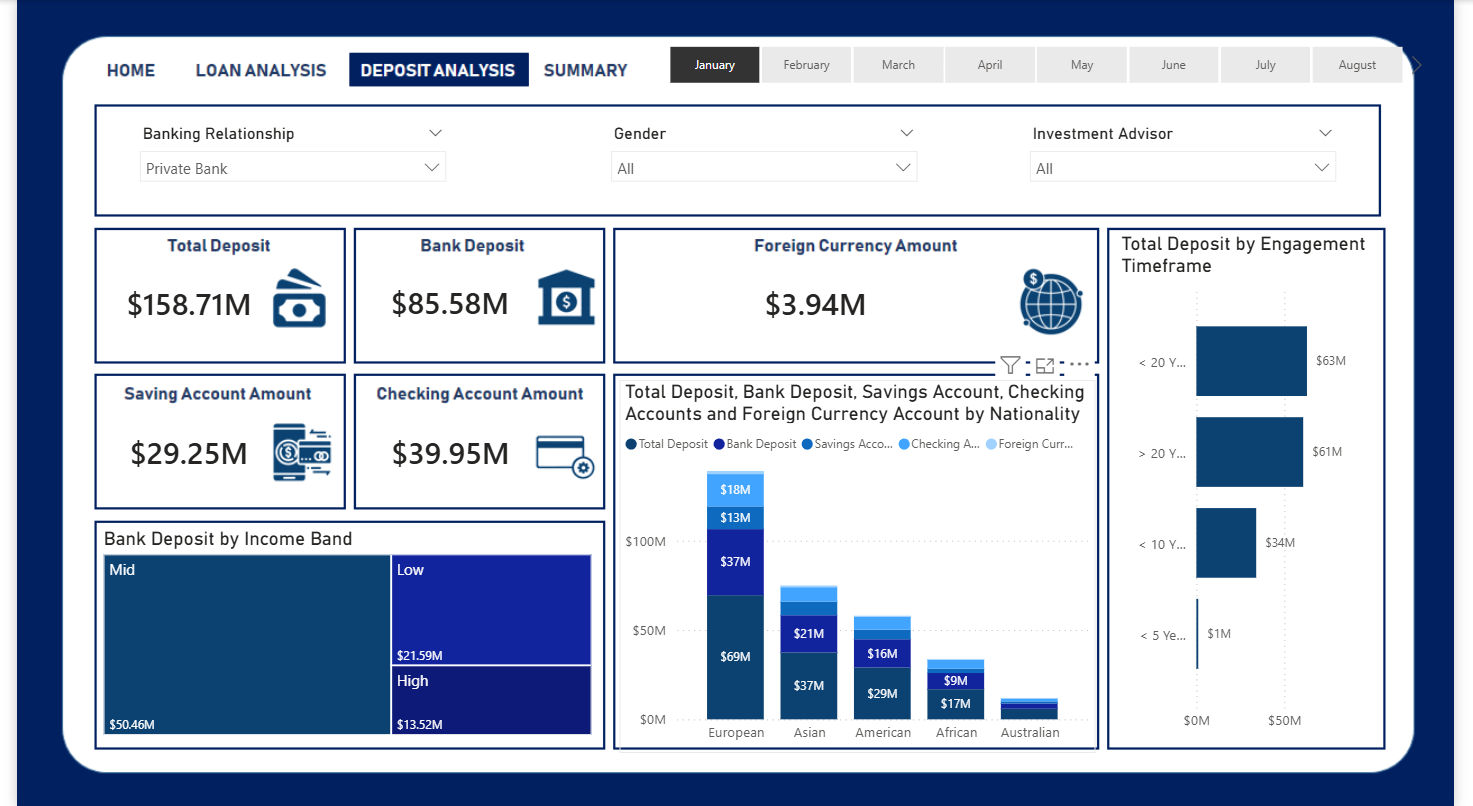

The dashboard page shown, as its layout file describes it:
{"tool":"powerbi","page":{"name":"Deposit Analysis","canvas":[1280,720],"ordinal":2},"visuals":[{"type":"card","fields":{"Values":["DAX Measures.Total Deposit"]},"box":[72.7,226.3,161.8,90.3],"z":0},{"type":"card","fields":{"Values":["DAX Measures.Bank Deposit"]},"box":[299,226.3,172.4,89.1],"z":1000},{"type":"card","fields":{"Values":["DAX Measures.Savings Account"]},"box":[72.7,360,161.8,89.1],"z":2000},{"type":"card","fields":{"Values":["DAX Measures.Checking Accounts"]},"box":[300.2,360,171.2,89.1],"z":3000},{"type":"slicer","fields":{"Values":["Banking Relationship.Banking Relationship"]},"box":[98.5,105.2,292.9,75.7],"z":4000},{"type":"slicer","fields":{"Values":["Gender.Gender"]},"box":[518.9,105.2,292.9,75.7],"z":5000},{"type":"slicer","fields":{"Values":["Investment Advisor.Investment Advisor"]},"box":[891.3,105.2,292.9,75.7],"z":6000},{"type":"card","fields":{"Values":["DAX Measures.Foreign Currency Account"]},"box":[537.1,227.5,349.4,89.1],"z":7000},{"type":"treemap","fields":{"Group":["Clients - Banking.Income Band"],"Values":["DAX Measures.Bank Deposit"]},"box":[72.7,470.2,444.4,190],"z":8000},{"type":"columnChart","fields":{"Category":["Clients - Banking.Nationality"],"Y":["DAX Measures.Total Deposit","DAX Measures.Bank Deposit","DAX Measures.Savings Account","DAX Measures.Checking Accounts","DAX Measures.Foreign Currency Account"]},"box":[537.1,338.9,423.3,331.9],"z":9000},{"type":"clusteredBarChart","fields":{"Category":["Clients - Banking.Engagement Timeframe"],"Y":["DAX Measures.Total Deposit"]},"box":[978,207.6,234.5,452.6],"z":10000},{"type":"slicer","fields":{"Values":["Clients - Banking.Joined Bank.Variation.Date Hierarchy.Month"]},"box":[555.2,34.6,702.1,46.6],"z":11000},{"type":"actionButton","box":[72.8,44.2,58.5,31],"z":12000},{"type":"actionButton","box":[160,44.2,119.4,31],"z":13000},{"type":"actionButton","box":[471.6,44.2,83.6,31],"z":14000}]}

Visuals, with their boxes in screenshot pixels (x1, y1, x2, y2), scaled from the page's 1280x720 canvas onto the 1473x806 screenshot:
card - DAX Measures.Total Deposit: x1=84, y1=253, x2=270, y2=354
card - DAX Measures.Bank Deposit: x1=344, y1=253, x2=542, y2=353
card - DAX Measures.Savings Account: x1=84, y1=403, x2=270, y2=503
card - DAX Measures.Checking Accounts: x1=345, y1=403, x2=542, y2=503
slicer - Banking Relationship.Banking Relationship: x1=113, y1=118, x2=450, y2=203
slicer - Gender.Gender: x1=597, y1=118, x2=934, y2=203
slicer - Investment Advisor.Investment Advisor: x1=1026, y1=118, x2=1363, y2=203
card - DAX Measures.Foreign Currency Account: x1=618, y1=255, x2=1020, y2=354
treemap - Clients - Banking.Income Band x DAX Measures.Bank Deposit: x1=84, y1=526, x2=595, y2=739
columnChart - Clients - Banking.Nationality x DAX Measures.Total Deposit: x1=618, y1=379, x2=1105, y2=751
clusteredBarChart - Clients - Banking.Engagement Timeframe x DAX Measures.Total Deposit: x1=1125, y1=232, x2=1395, y2=739
slicer - Clients - Banking.Joined Bank.Variation.Date Hierarchy.Month: x1=639, y1=39, x2=1447, y2=91
actionButton: x1=84, y1=49, x2=151, y2=84
actionButton: x1=184, y1=49, x2=322, y2=84
actionButton: x1=543, y1=49, x2=639, y2=84
